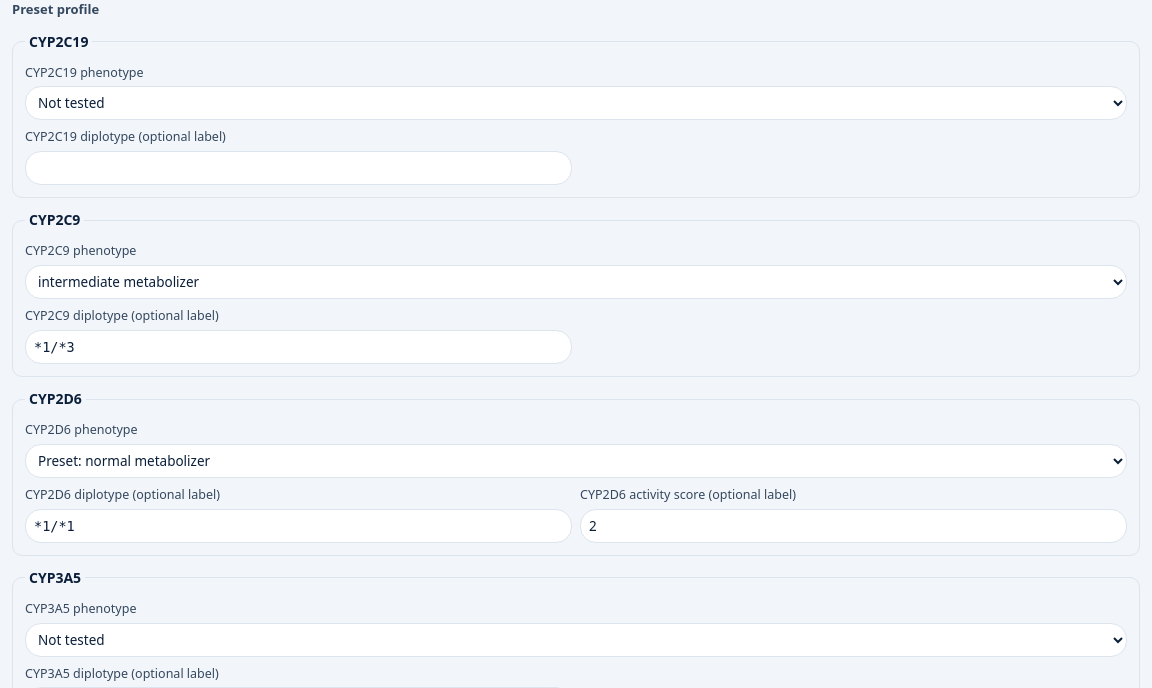
Test: ProfileEditor › rejects bad diplotype characters
The image size is (1152, 688).
Replace the text in the field labelled "CYP2D6 diplotype (optional label)" with "*1/*4": [298, 526] box [25,508,572,543]
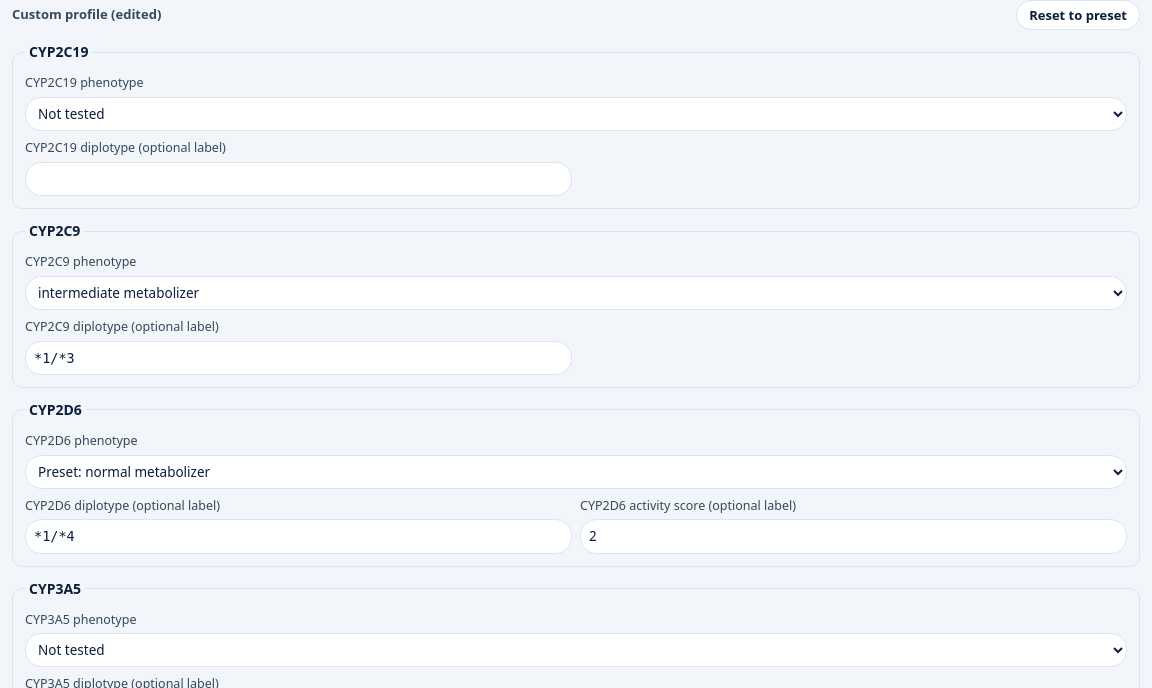
Replace the text in the field labelled "CYP2D6 diplotype (optional label)" with "*1/*4<script>": [298, 536] box [25,519,572,554]
(page scrolled)
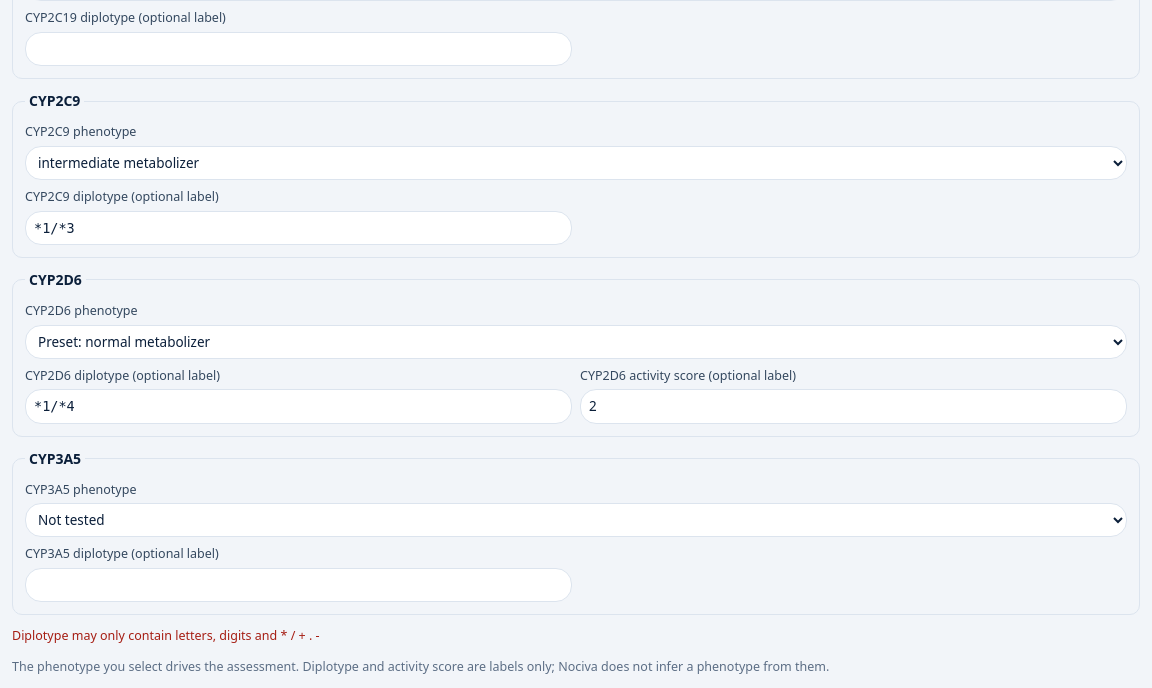
Check: the message shows "letters, digits", box [12,627,320,644]
